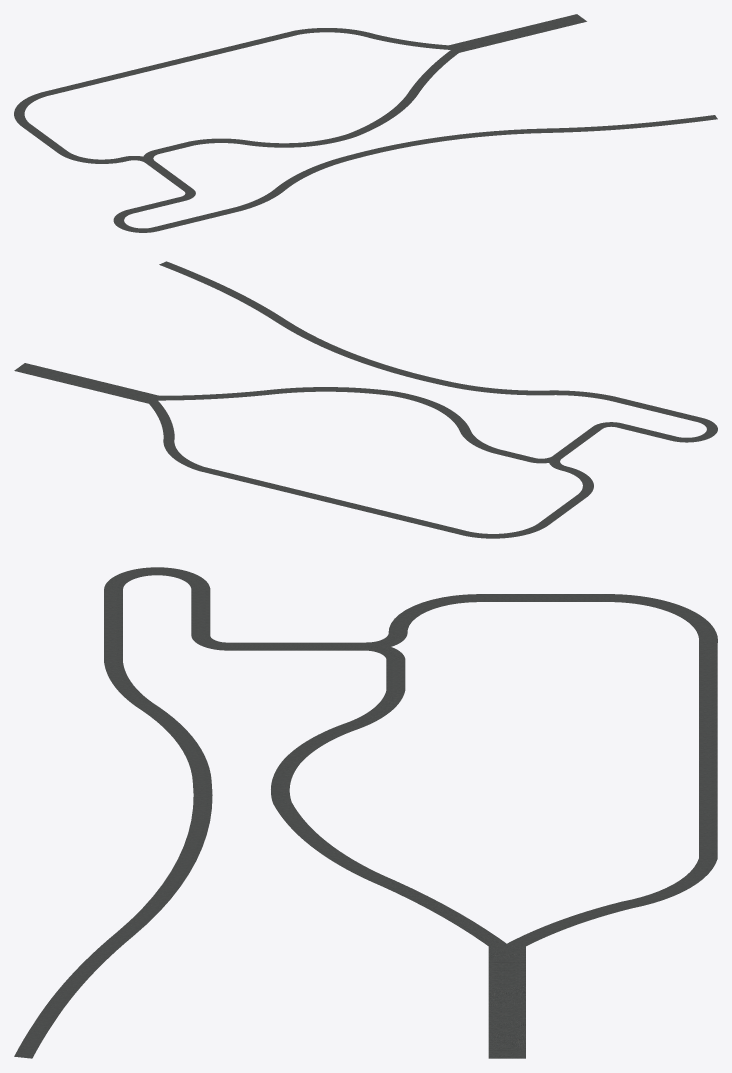
Rendered from highway 2.fbx.
3 renders of one model, top to bottom at view 1: azimuth 30°, elevation 25°; view 2: azimuth 150°, elevation 25°; view 3: azimuth 270°, elevation 25°, orthographic. The views are drawn at different scales.
Visible parts, largest first — view 1: Cube.004; view 2: Cube.004; view 3: Cube.004.
Boxes of the visible parts, x1,y1,x2,y2 form: Cube.004: [14, 14, 717, 232]; Cube.004: [14, 261, 717, 538]; Cube.004: [14, 567, 717, 1058].
Bounding box in the file's own units: 367178 × 0.0522 × 222319.
1 material, 1 textured.
